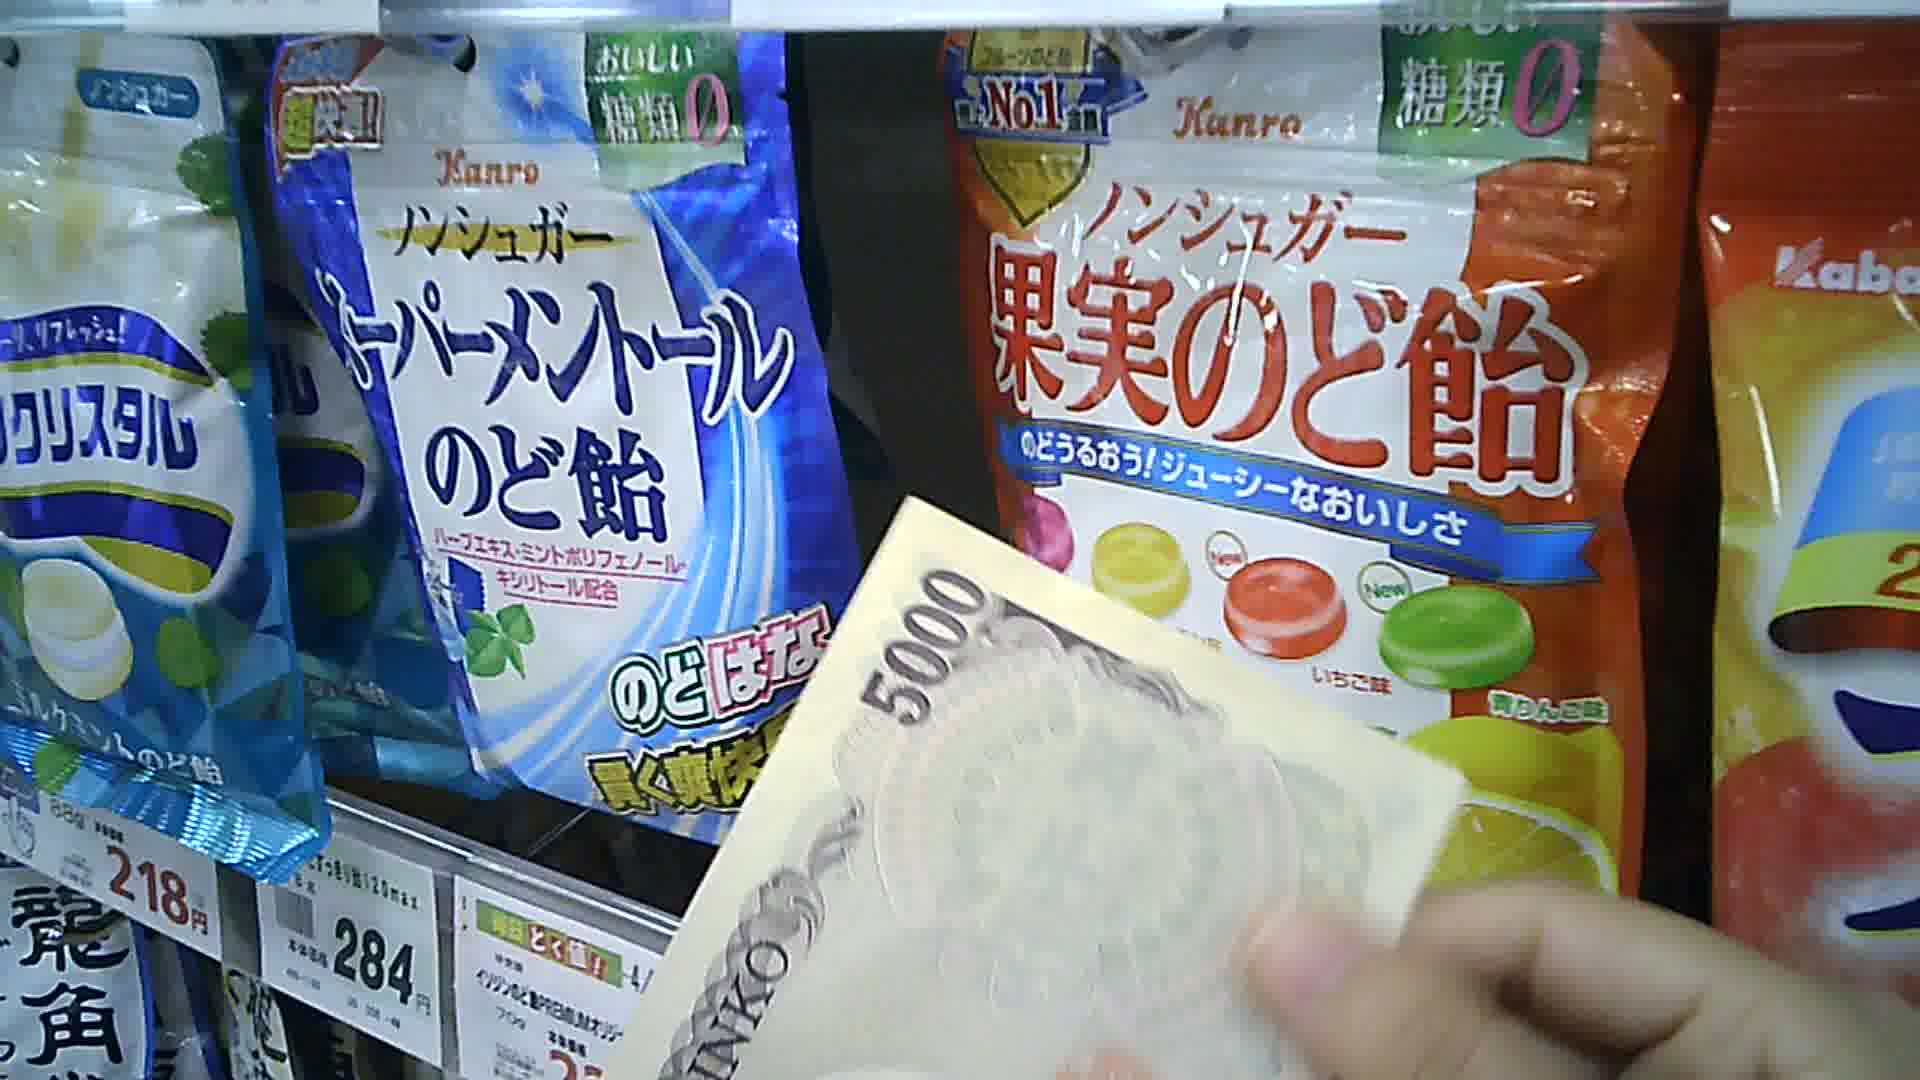5,000 Yen: (612, 495, 1437, 1079)
